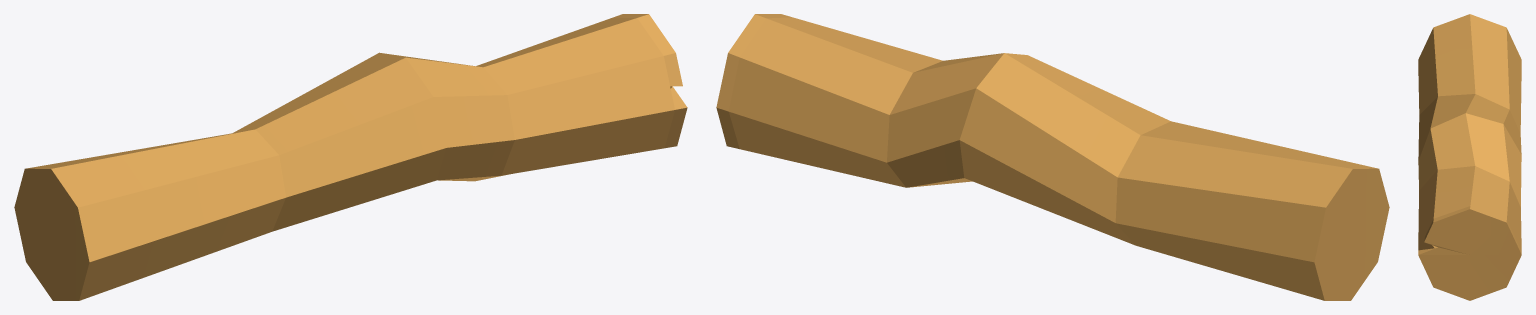
Rendered from Wooden peace for ladder.fbx.
3 views of the same model, side by side, from view 1: azimuth 30°, elevation 25°; view 2: azimuth 150°, elevation 25°; view 3: azimuth 270°, elevation 25° (orthographic). The views are drawn at different scales.
Parts seen in each view (by area): view 1: Wooden peace for ladder; view 2: Wooden peace for ladder; view 3: Wooden peace for ladder.
Part boxes in pixels (x1=…): Wooden peace for ladder: x1=14, y1=14, x2=687, y2=300; Wooden peace for ladder: x1=716, y1=14, x2=1389, y2=300; Wooden peace for ladder: x1=1418, y1=14, x2=1521, y2=300.
Bounding box in the file's own units: 65.01 × 16.59 × 14.11.
